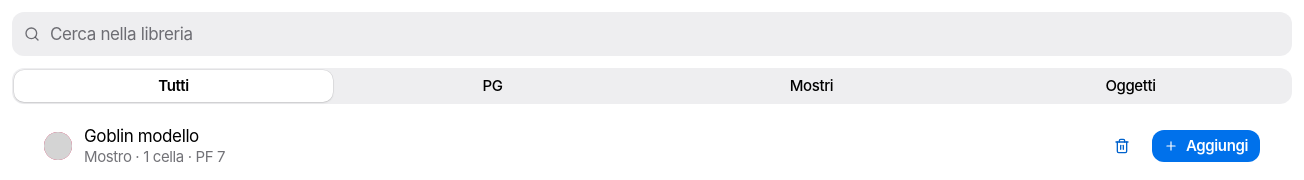
Scenario: libreria nel client › la ricerca interroga il server con q e il filtro per tipo
Later steps or results of the test are not shown.
Expected: the text "Goblin modello" is shown, [84,126,199,146]
Type "xyz" into the search field labelled "Cerca nella libreria" at [666, 34], box [48,12,1284,56]
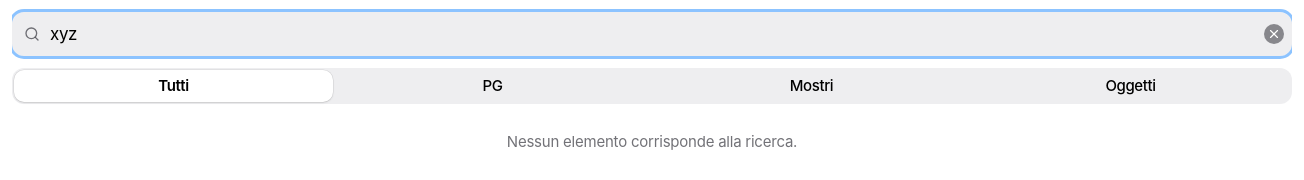
Now the text "Nessun elemento corrisponde alla ricerca." is shown, box [507,132,797,151]
